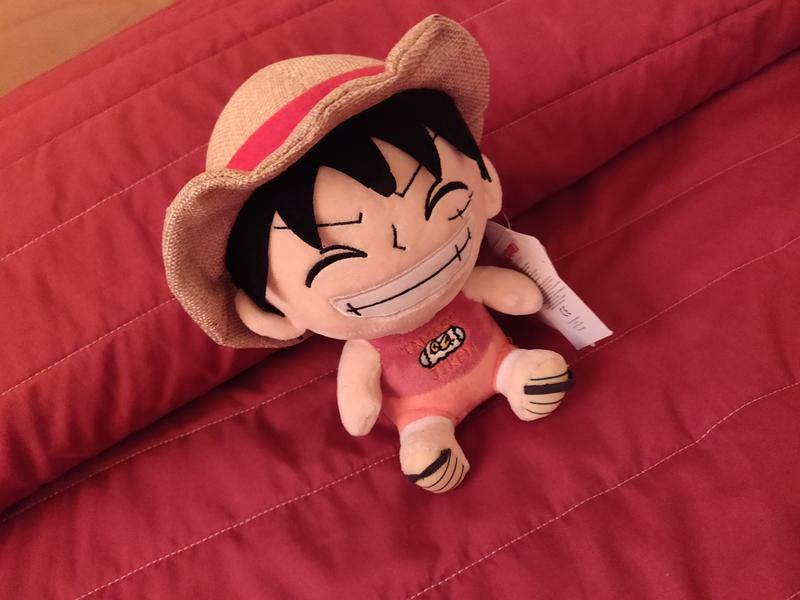rufy: (164, 9, 628, 500)
